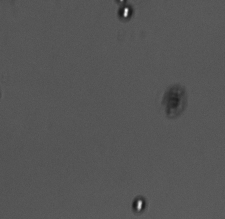Dead Cell: (162, 85, 190, 116)
Living Cell: (130, 195, 148, 214), (116, 4, 134, 20)
